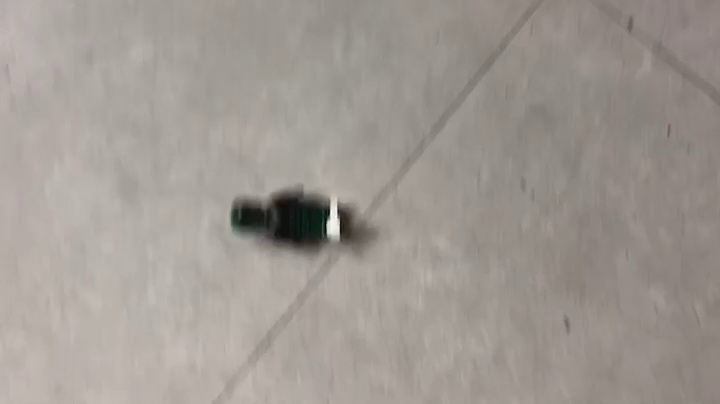people: (229, 184, 358, 249)
